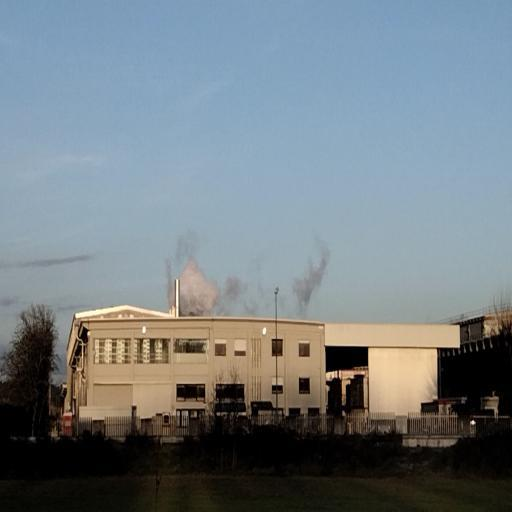leakage: (164, 240, 262, 318)
